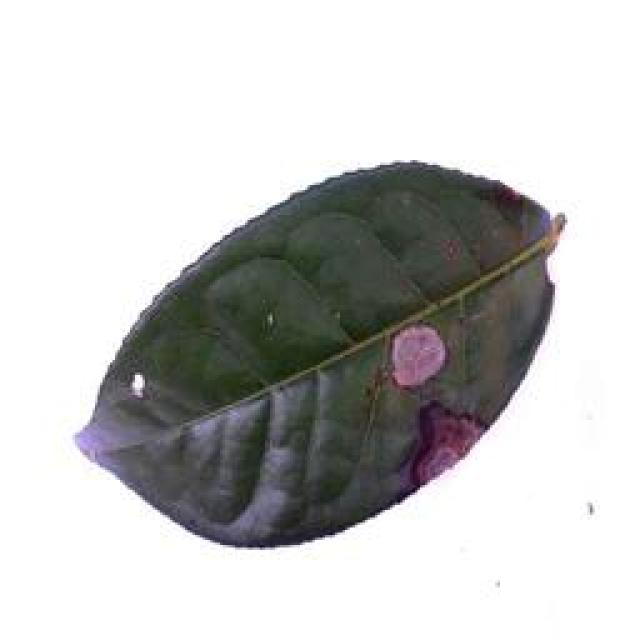Gray Blight: (66, 156, 568, 547)
